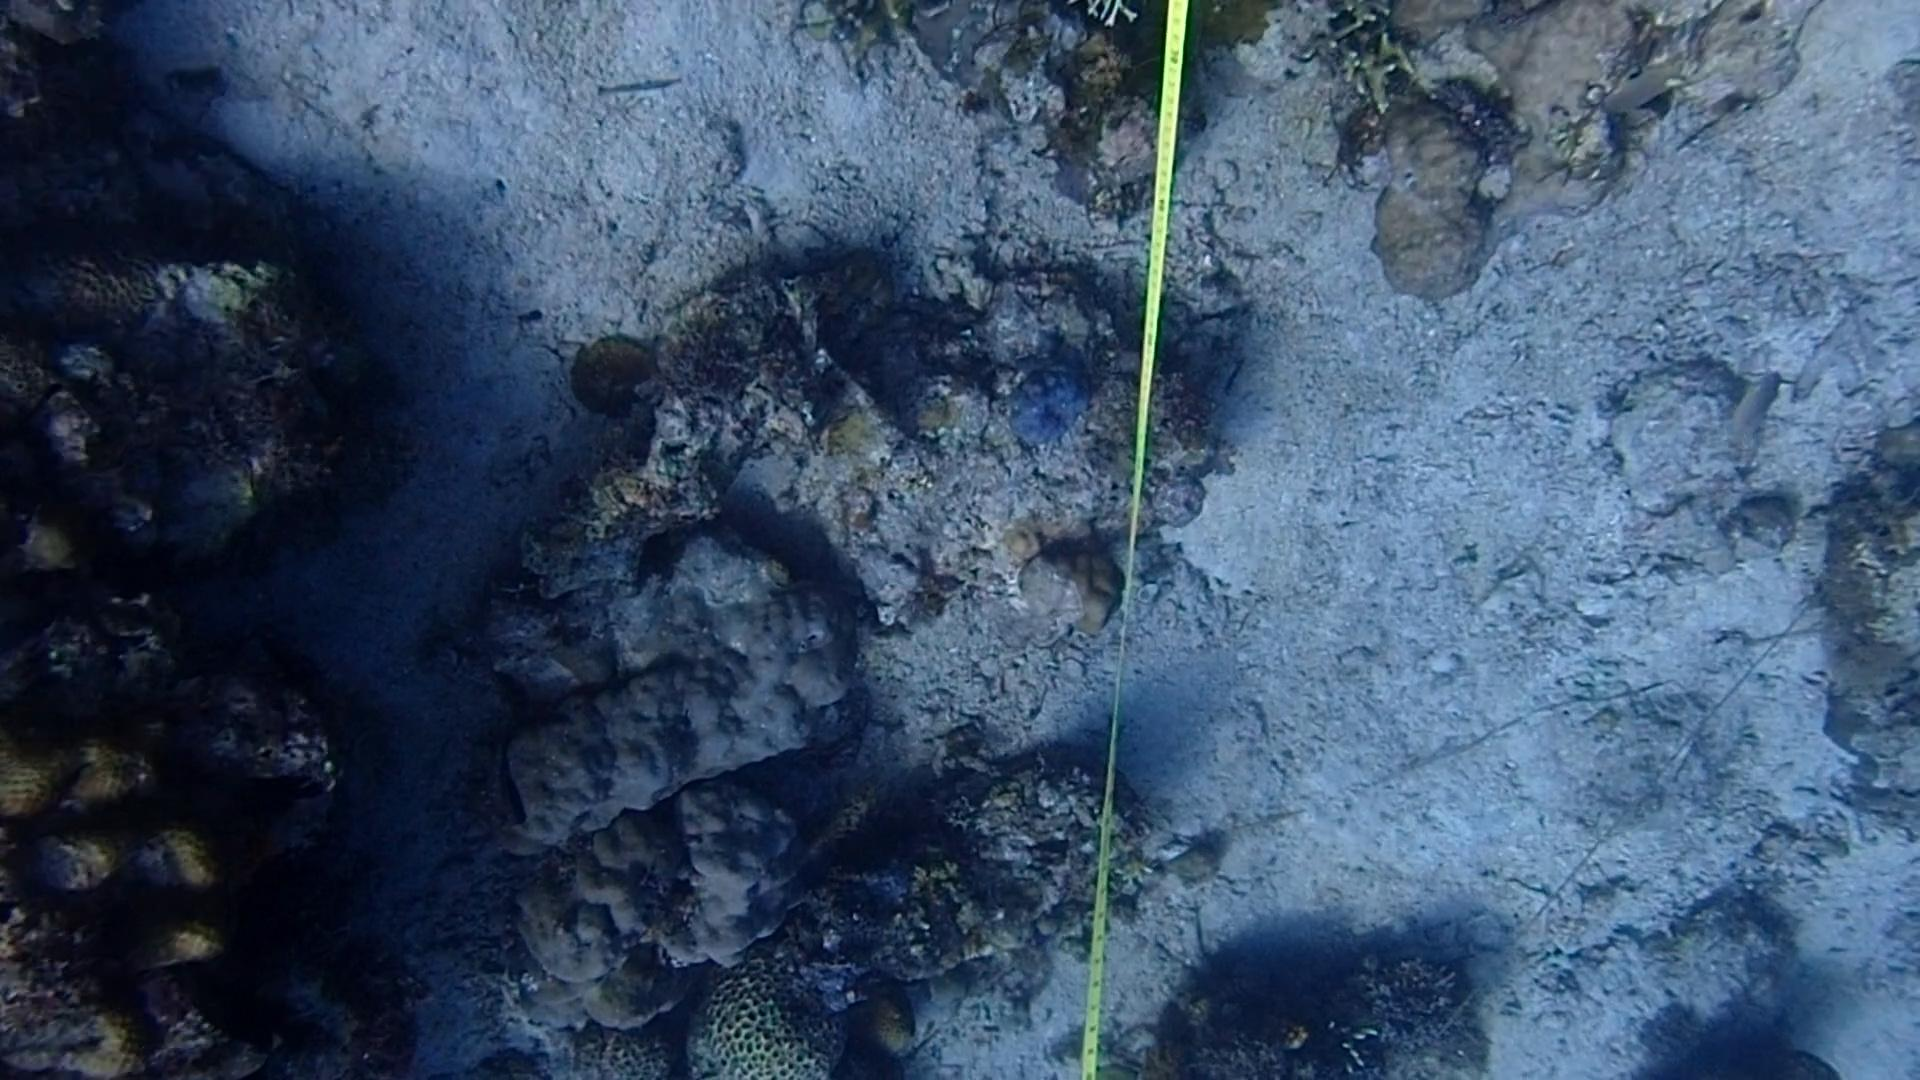Dark Fish: (183, 956, 316, 1064), (476, 708, 560, 843), (212, 737, 320, 827), (164, 200, 278, 285)
Light Fish: (1721, 356, 1796, 458)
